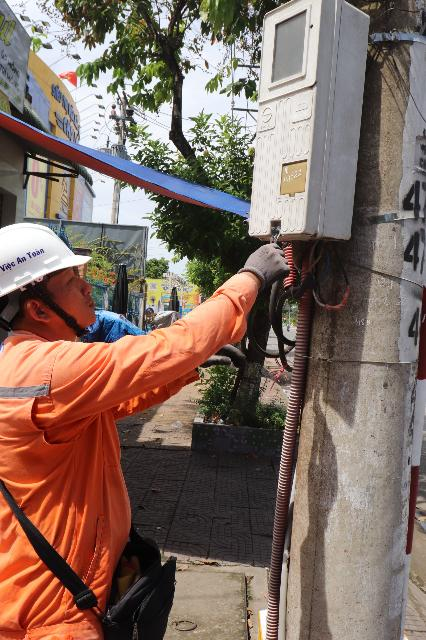gloves: (233, 244, 304, 295)
helmet: (0, 208, 85, 313)
